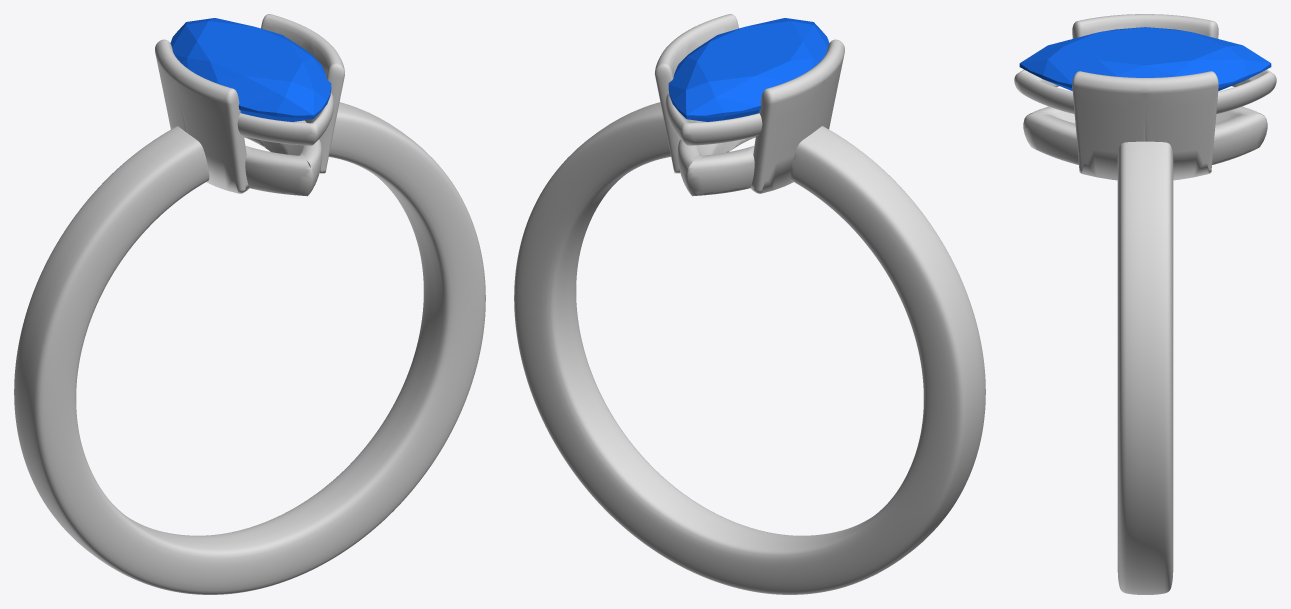
Rendered from bluesapphire-marquise-platinum-halfmoonbezel-straightband-nosidestones.glb.
The picture shows the model from 3 angles, left to right: view 1: azimuth 30°, elevation 25°; view 2: azimuth 150°, elevation 25°; view 3: azimuth 270°, elevation 25°; orthographic projection.
Parts seen in each view (by area): view 1: metal.003, stone; view 2: metal.003, stone; view 3: metal.003, stone.
Part boxes in pixels (x1,y1,x2,y2): metal.003: [14, 14, 485, 594]; stone: [170, 18, 331, 121]; metal.003: [514, 14, 985, 594]; stone: [668, 18, 829, 121]; metal.003: [1014, 14, 1276, 594]; stone: [1019, 27, 1271, 90].
Size of the model in its own units: 20.49 by 22.93 by 10.4.
